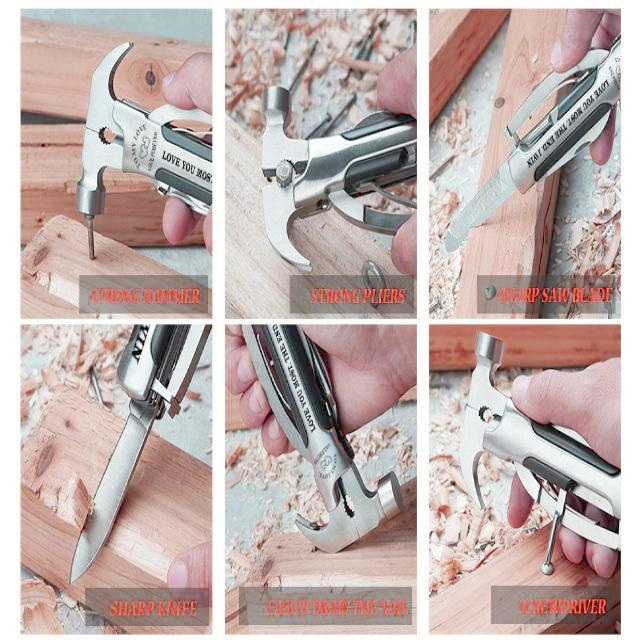hammer: (234, 324, 413, 560), (447, 326, 623, 564), (248, 63, 418, 287), (64, 33, 217, 225)
